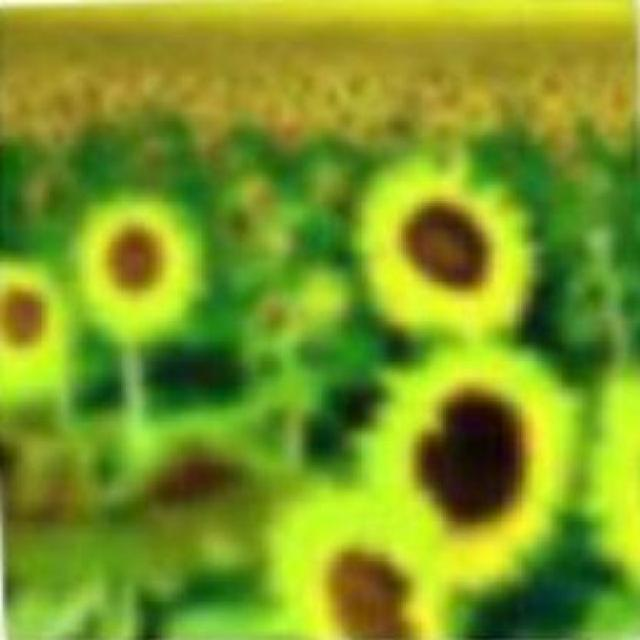sunflower: (358, 346, 577, 597), (354, 162, 538, 336), (78, 200, 194, 320)
